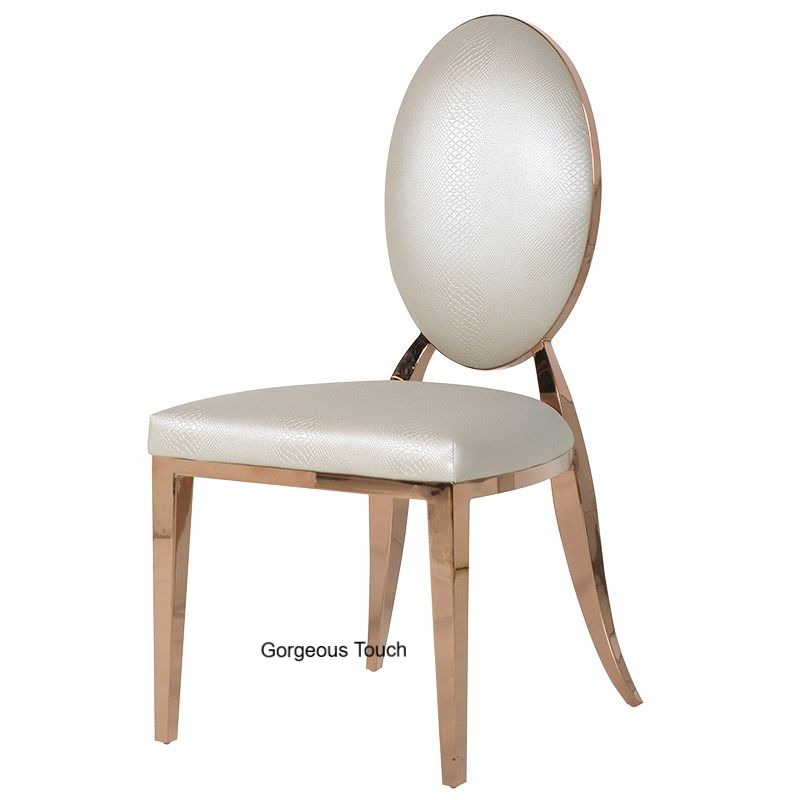chairs: (129, 15, 649, 793)
